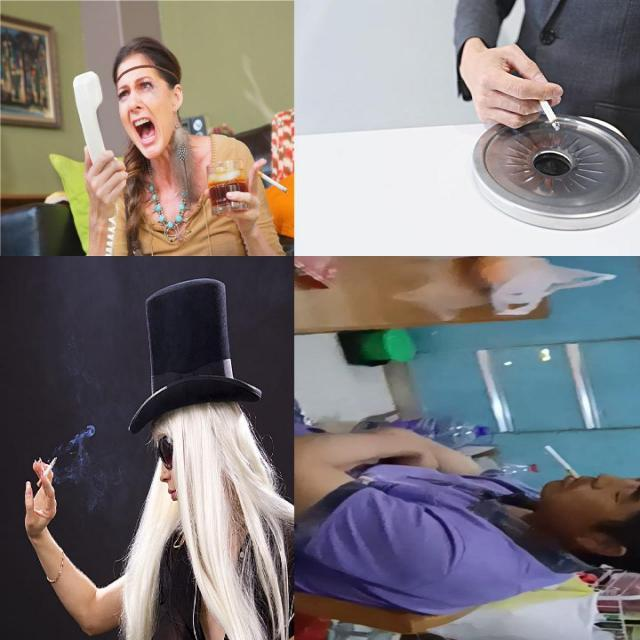cigarette: (545, 445, 580, 479), (535, 91, 562, 131), (254, 167, 288, 193), (36, 455, 59, 488)
